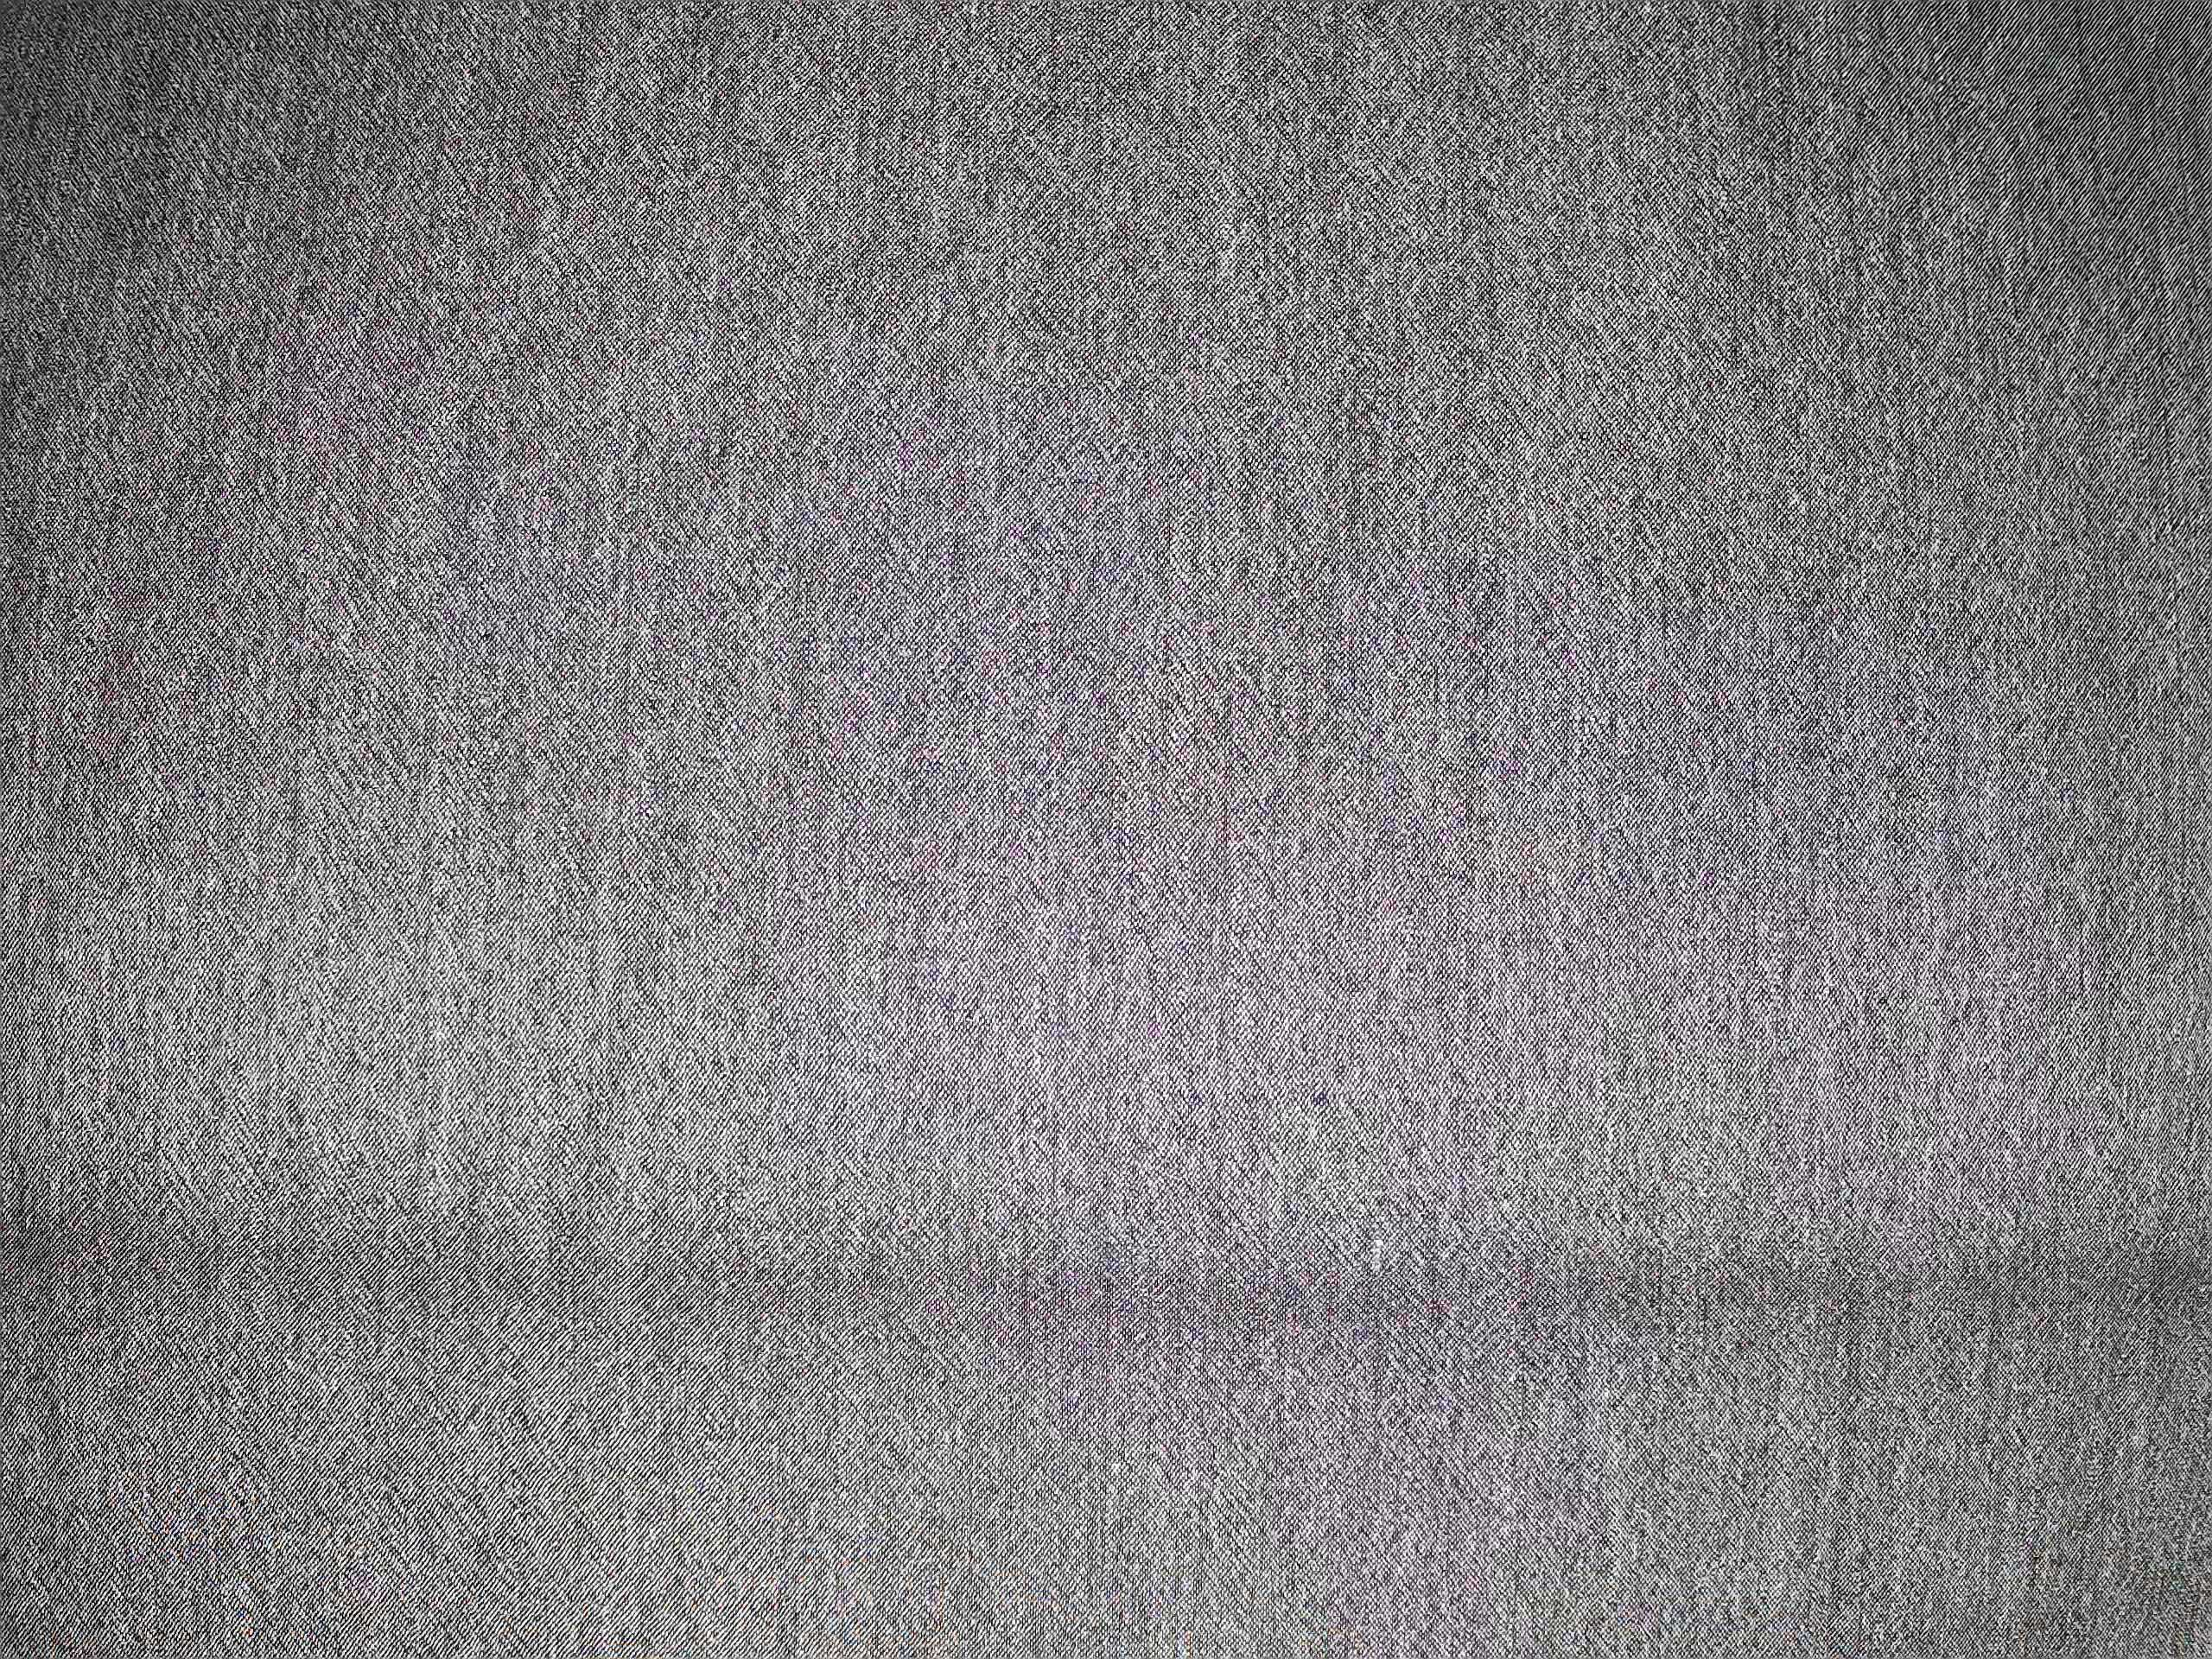others: (3, 1195, 2210, 1368)
